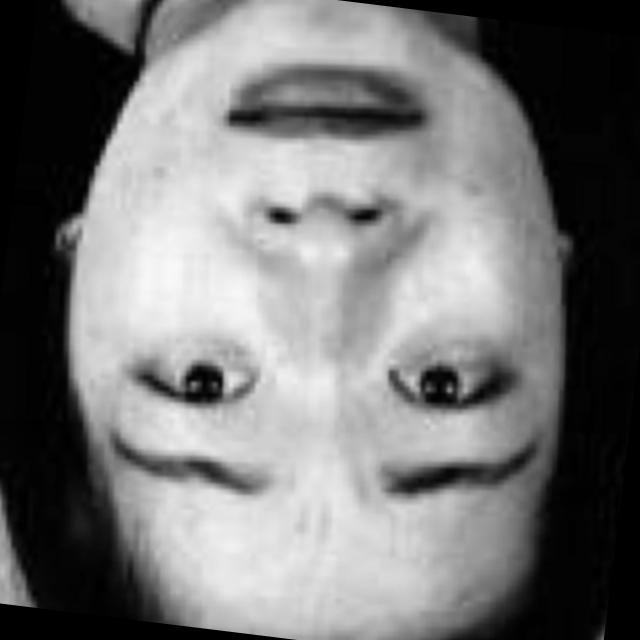fear: (57, 0, 582, 595)
